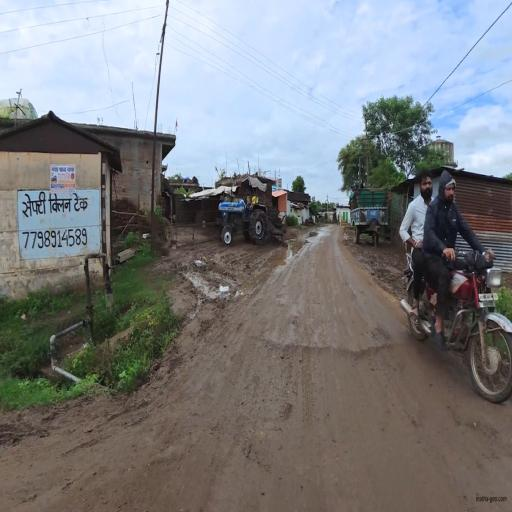longitudinal_crack: (255, 294, 401, 398)
